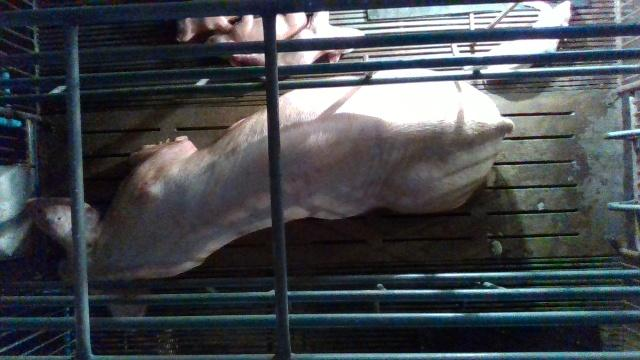piglet: (480, 1, 574, 74), (237, 11, 363, 65), (201, 10, 311, 47), (176, 0, 250, 42)
sow-sit: (27, 68, 515, 333)
